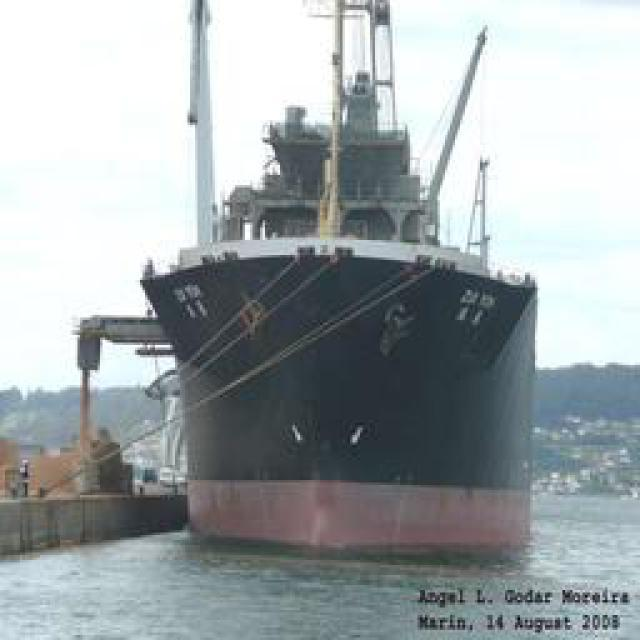Ship: (130, 29, 543, 554)
